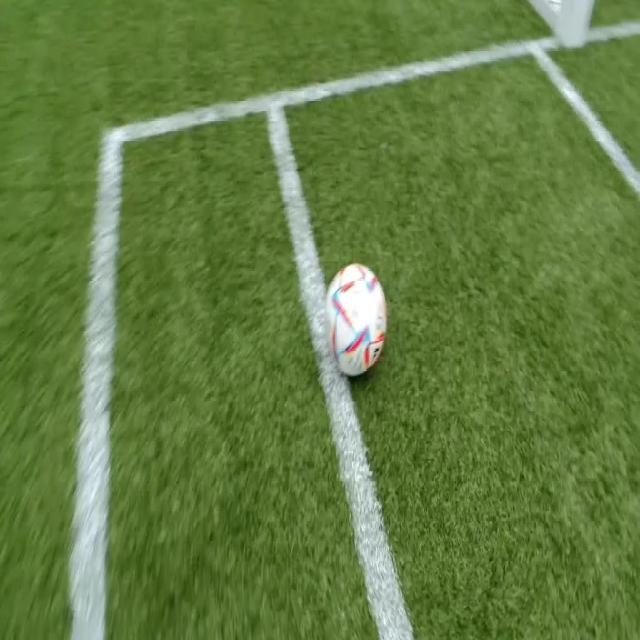ball: (326, 264, 386, 375)
goalpost: (525, 0, 597, 52)
